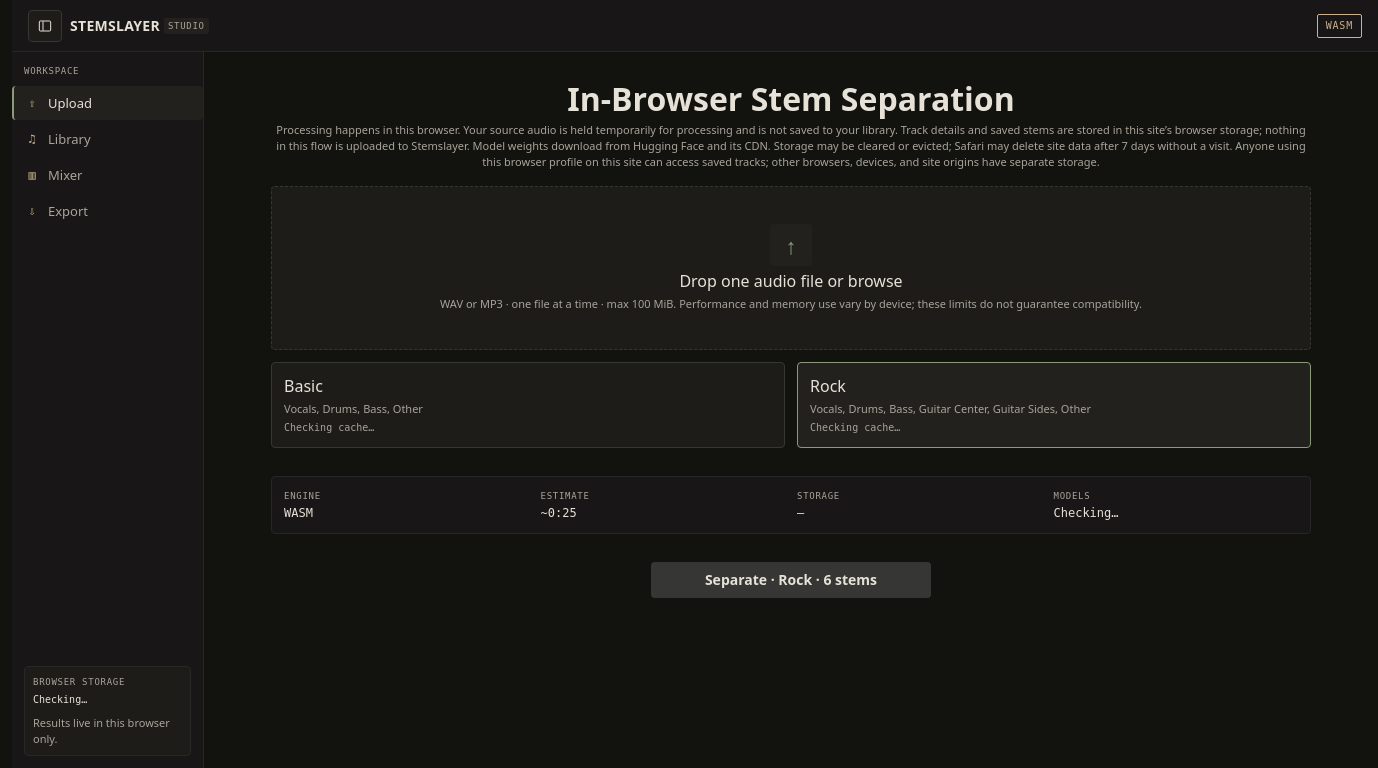
"Open in mixer" from a specific Library row opens the mixer with that exact track
This screenshot has width=1378, height=768.
Step 1. Click the button with class "nav-item" showing "Library" → [108, 139], box [12,122,203,156]
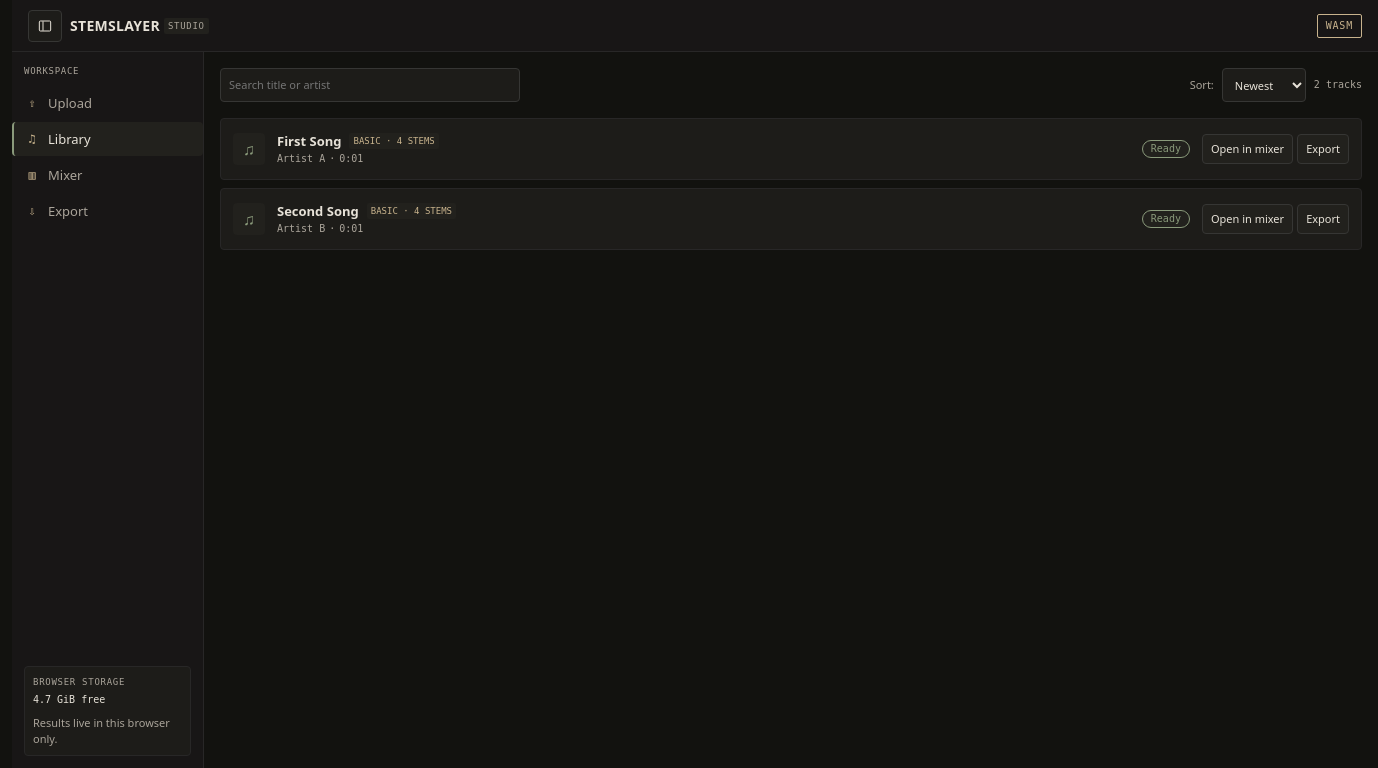
Step 2. Click the button with class "track-row-open-mixer" in the row of "Second Song" → [1248, 219], box [1202,204,1293,234]
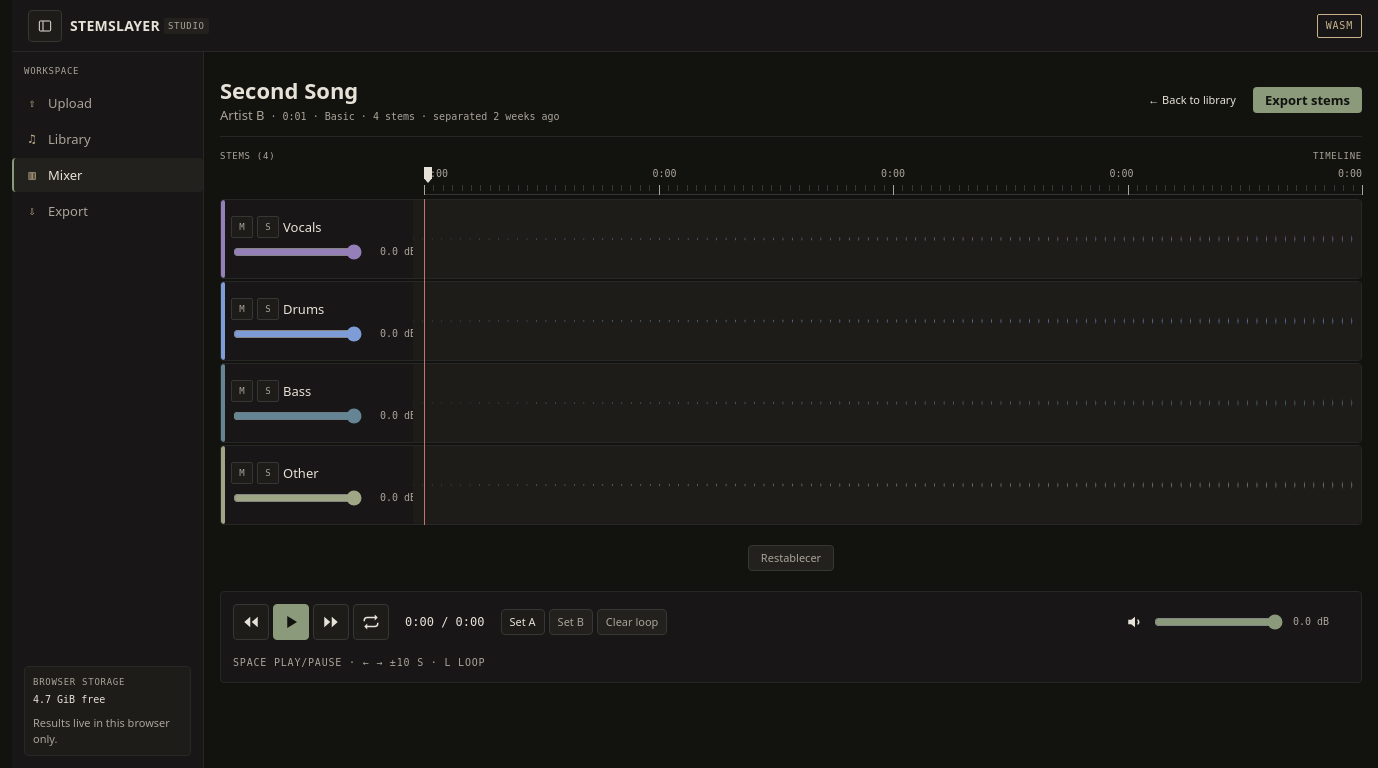
Check: the text with class "mixer-track-artist" reads "Artist B", box [220,106,264,124]
Check: the text with class "mixer-track-title" no longer shows "First Song"
